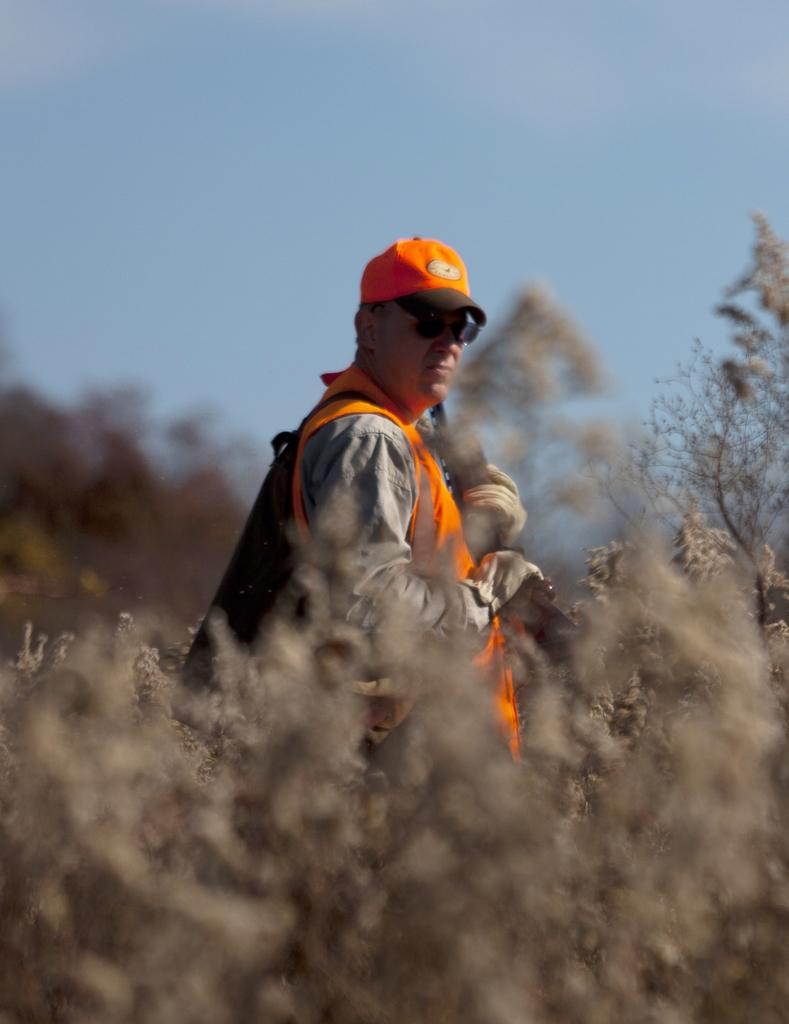Hat: (360, 235, 489, 324)
